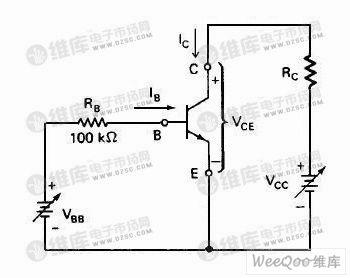power2: (299, 171, 321, 197), (35, 197, 55, 224)
res2: (302, 50, 321, 93), (74, 114, 110, 131)
triode: (180, 91, 216, 149)
